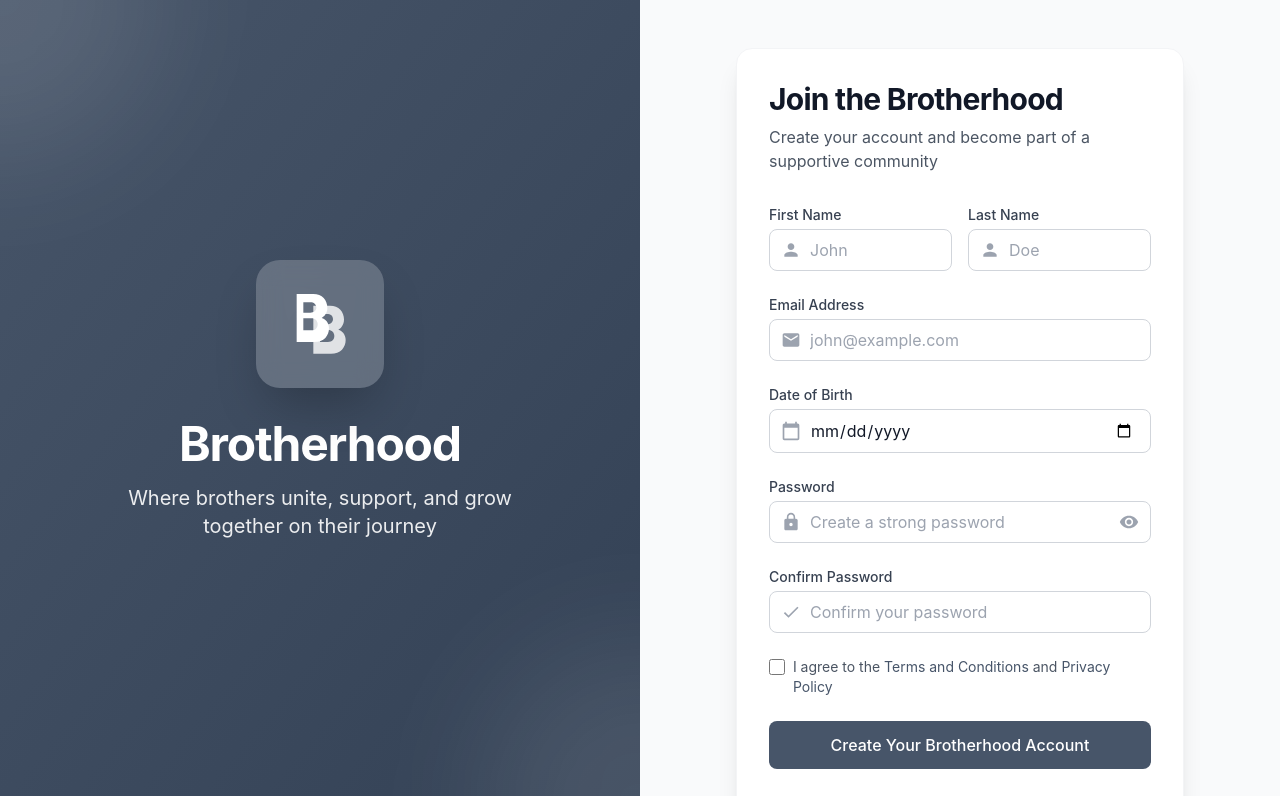
Register Page › Form Validation › should show error for empty email
This screenshot has width=1280, height=796.
Click the field labelled "Email Address" at (960, 340), box [769, 319, 1151, 361]
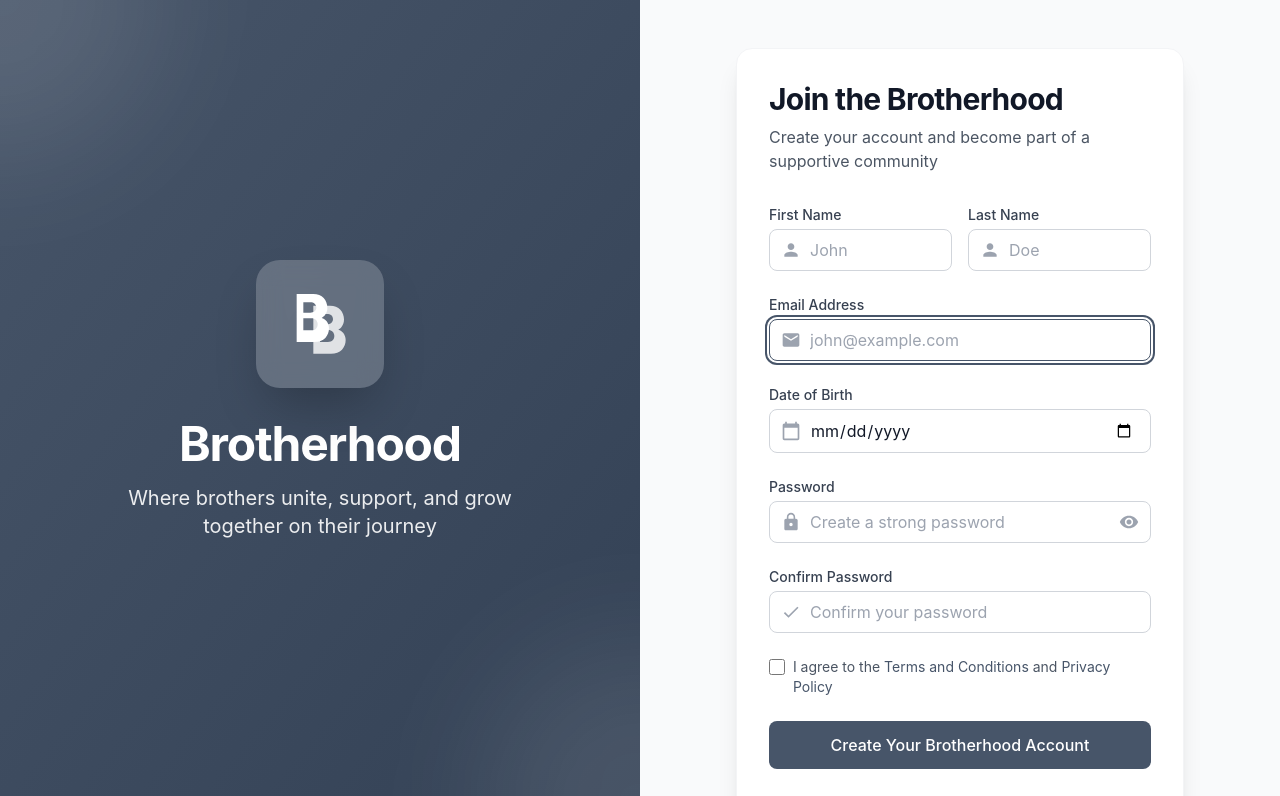
Press Tab
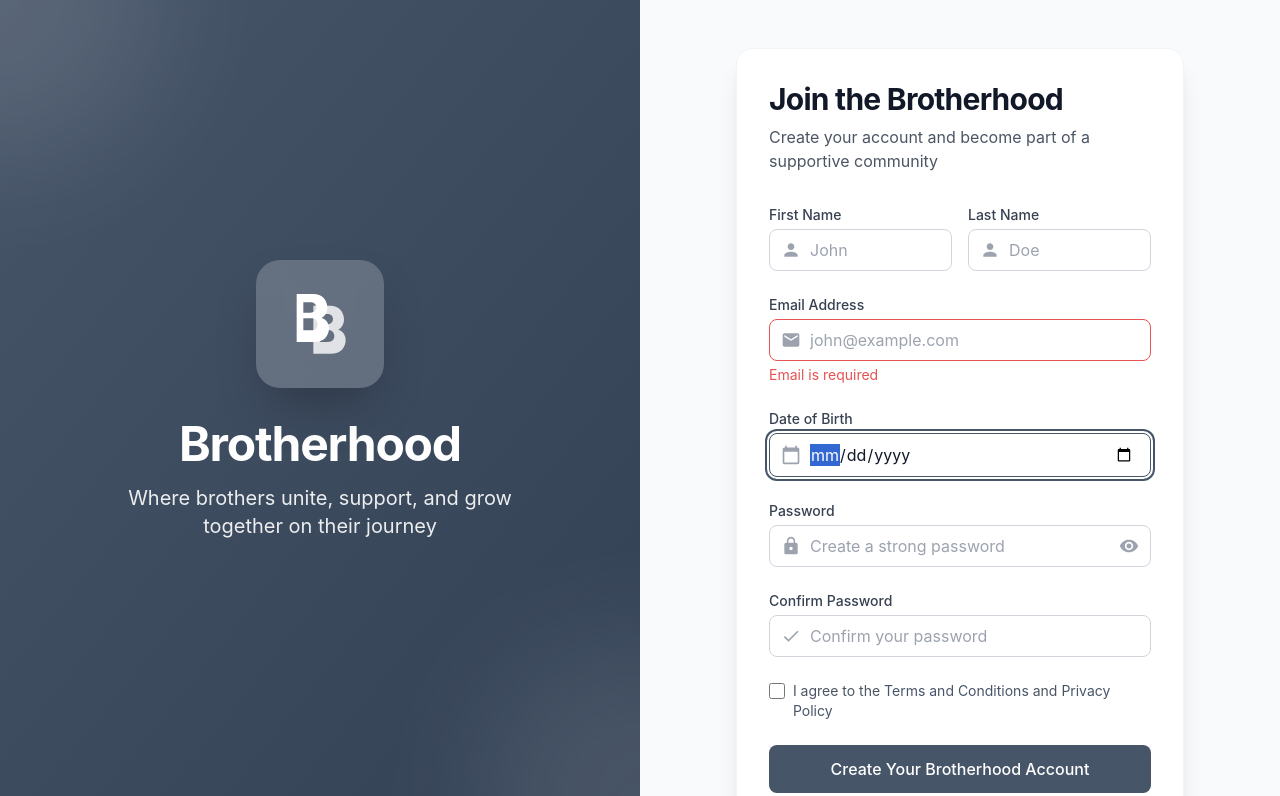
expect the text "Email is required" is shown: met, box [769, 366, 878, 383]
